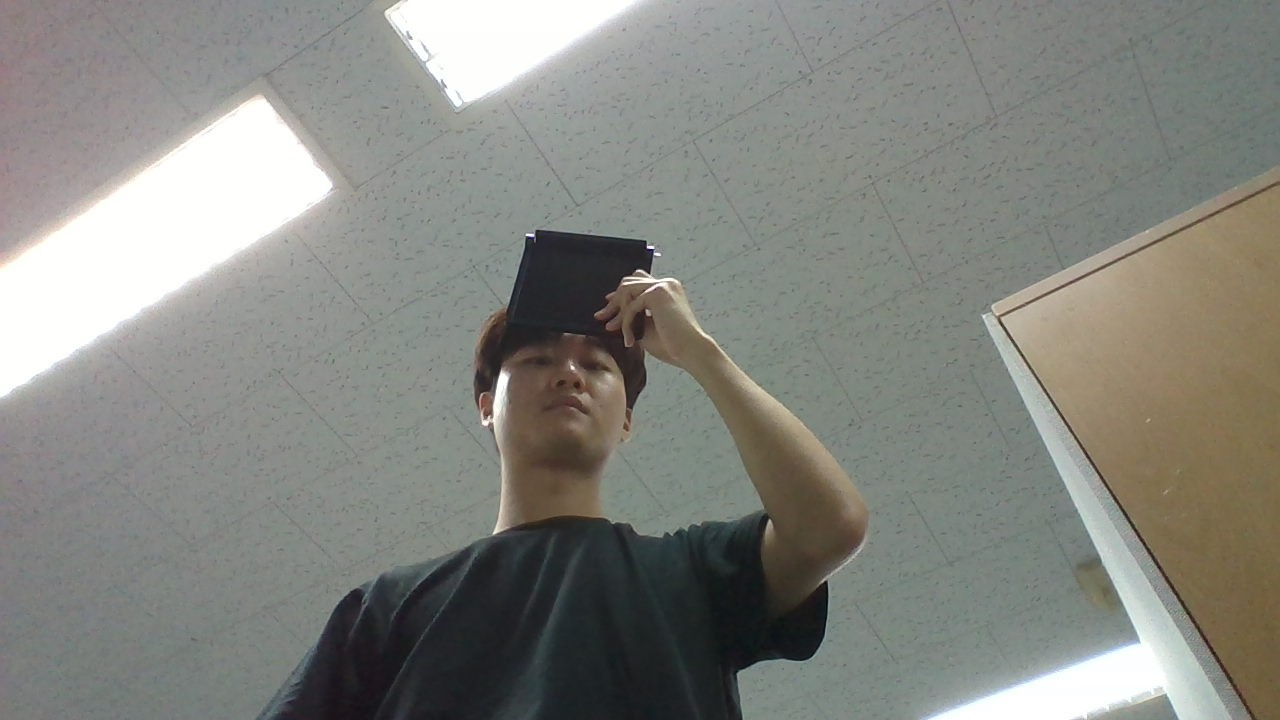Non-Helmet: (442, 265, 664, 485)
